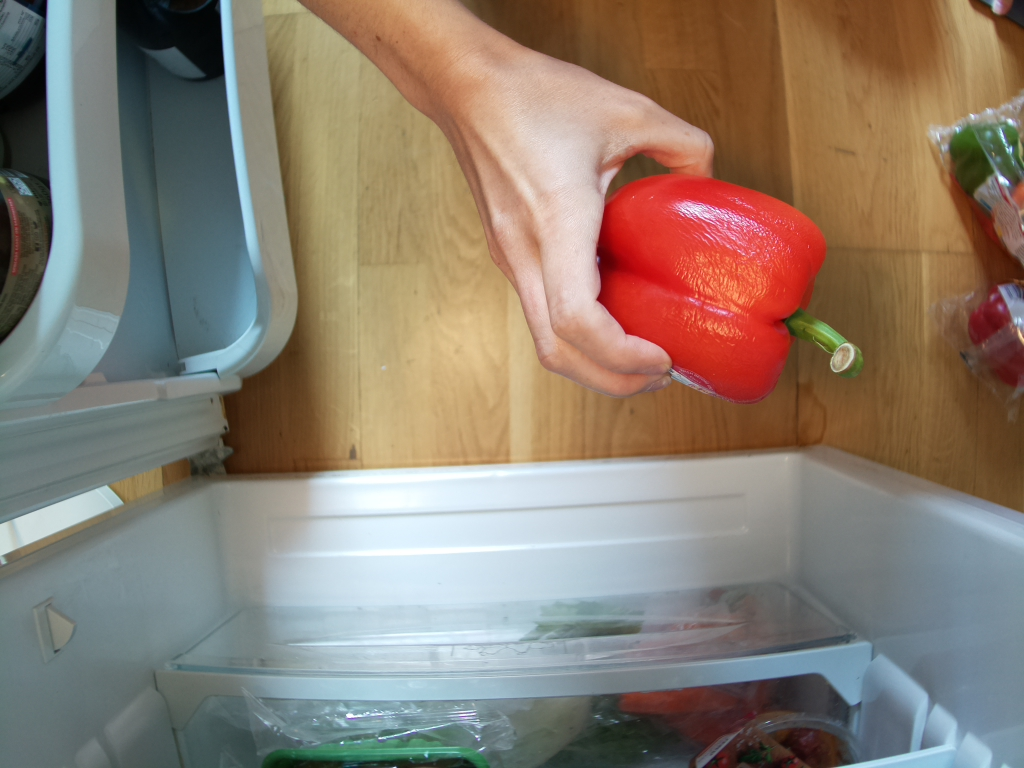pepper-bad: (571, 170, 869, 409)
